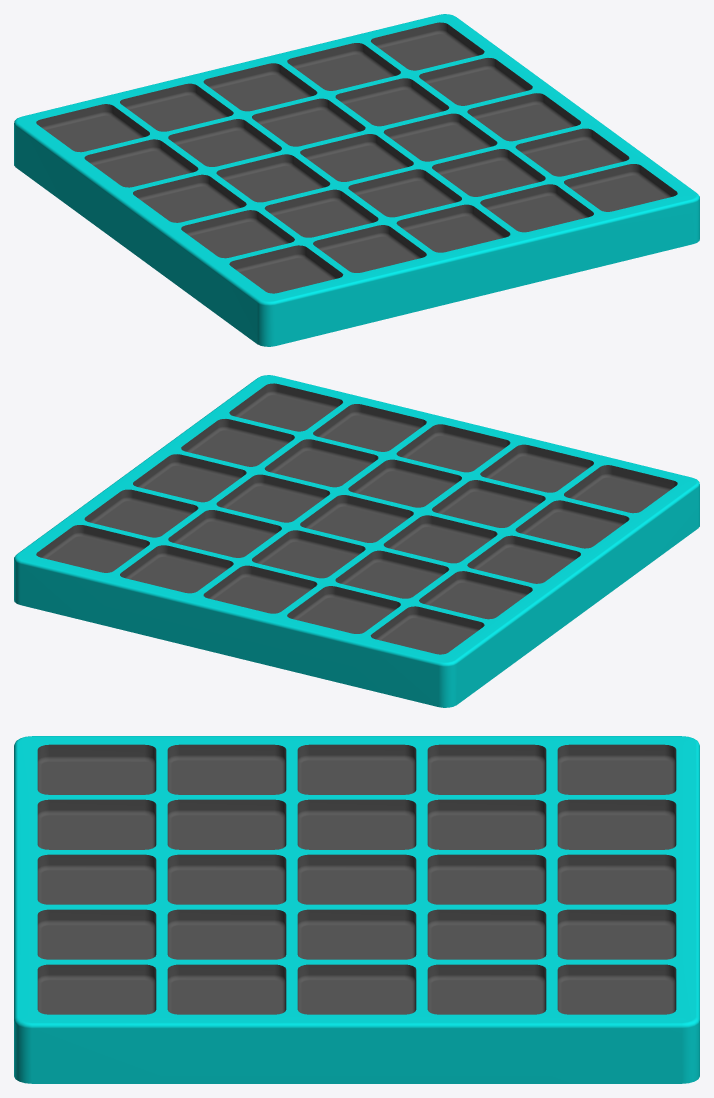
3 views of the same model, one above another, from view 1: azimuth 30°, elevation 25°; view 2: azimuth 150°, elevation 25°; view 3: azimuth 270°, elevation 25° (orthographic). The views are drawn at different scales.
Parts seen in each view (by area): view 1: polySurface3; view 2: polySurface3; view 3: polySurface3.
Part boxes in pixels (bbox=[...]): polySurface3: bbox=[14, 14, 699, 346]; polySurface3: bbox=[14, 375, 699, 707]; polySurface3: bbox=[14, 736, 699, 1083].
Size of the model in its own units: 18.12 by 1.72 by 18.12.
